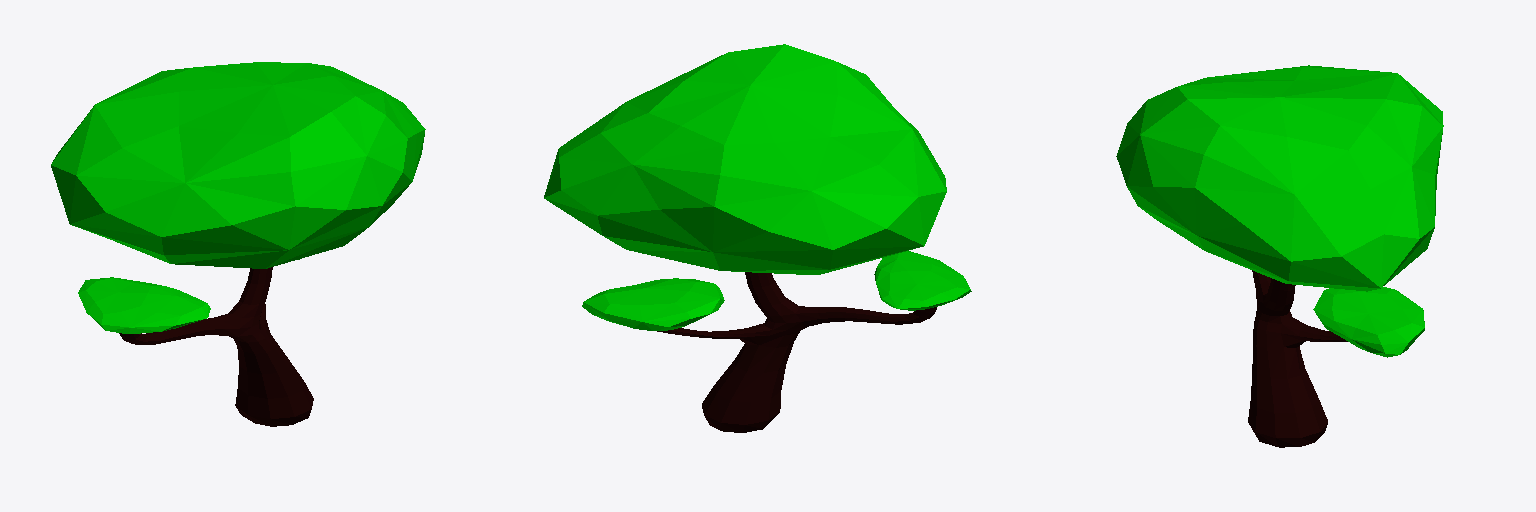
Rendered from LowPolyTree.obj.
3 views of the same model, side by side, from view 1: azimuth 30°, elevation 25°; view 2: azimuth 150°, elevation 25°; view 3: azimuth 270°, elevation 25° (orthographic).
Parts seen in each view (by area): view 1: Tree; view 2: Tree; view 3: Tree.
Part boxes in pixels (x1,y1,x2,y2): Tree: (51,62,425,426); Tree: (544,44,971,432); Tree: (1116,65,1443,447).
Bounding box in the file's own units: 4.56 × 4.17 × 3.62.